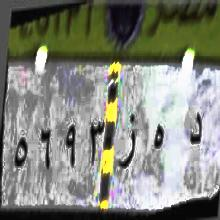3: (85, 116, 104, 166)
5: (10, 129, 29, 176)
6: (39, 125, 53, 176)
9: (63, 113, 80, 175)
daal: (185, 90, 205, 159)
haa: (146, 115, 168, 164)
zay: (118, 110, 138, 178)
